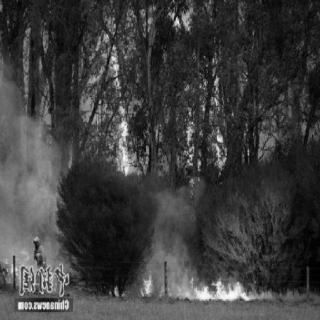Fire: (83, 18, 261, 182), (105, 250, 257, 306), (4, 251, 20, 287)
